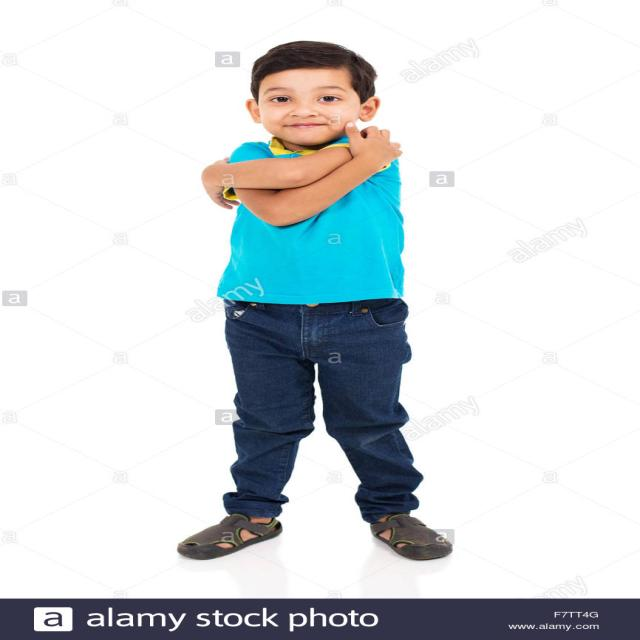child: (126, 32, 510, 572)
